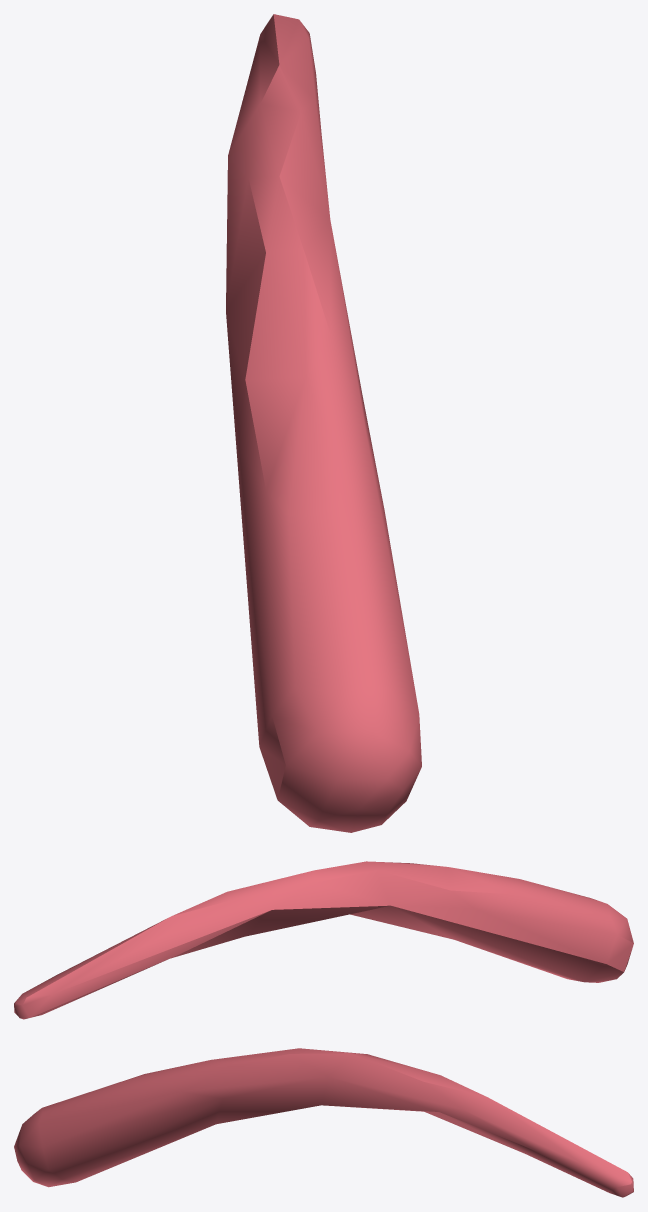
File: fma8635_fj2912.glb
The picture shows the model from 3 angles, top to bottom: view 1: azimuth 30°, elevation 25°; view 2: azimuth 150°, elevation 25°; view 3: azimuth 270°, elevation 25°; orthographic projection. The views are drawn at different scales.
Parts seen in each view (by area): view 1: FMA8635_FJ2912; view 2: FMA8635_FJ2912; view 3: FMA8635_FJ2912.
Boxes of the visible parts, bbox=[...] form: FMA8635_FJ2912: bbox=[226, 14, 421, 832]; FMA8635_FJ2912: bbox=[14, 861, 633, 1019]; FMA8635_FJ2912: bbox=[14, 1048, 633, 1197].
Bounding box in the file's own units: 0.0121 × 0.00723 × 0.0217.
